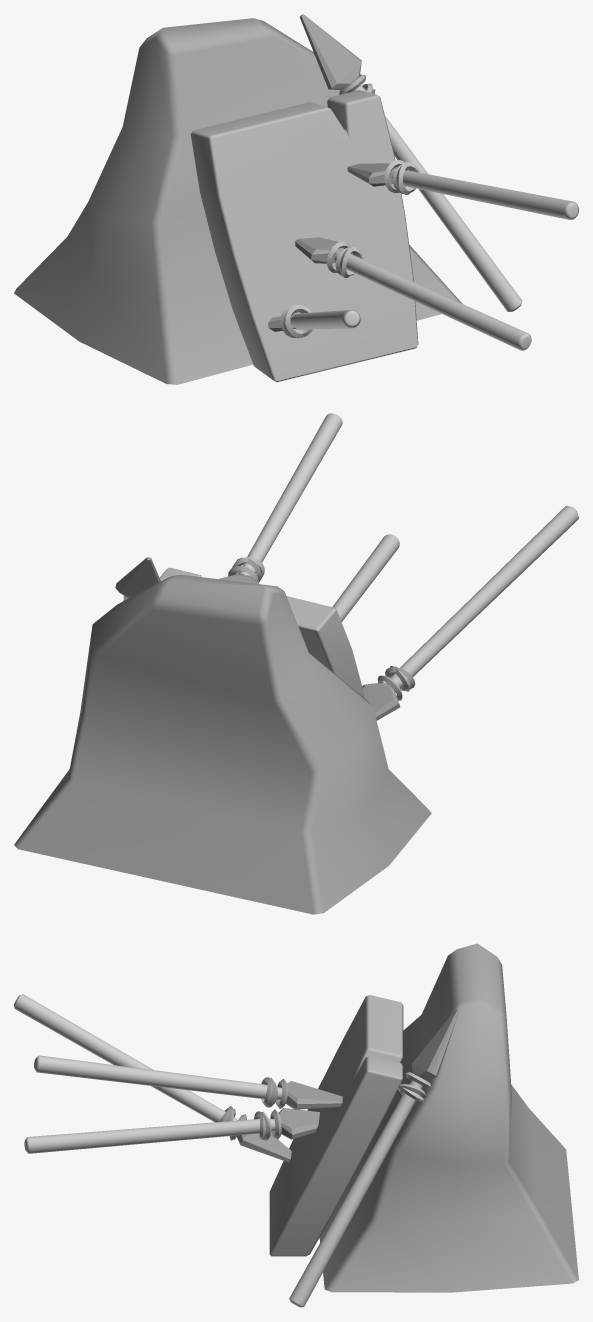
Rendered from WarriorTrainer_lvl2.fbx.
3 renders of one model, top to bottom at view 1: azimuth 30°, elevation 25°; view 2: azimuth 150°, elevation 25°; view 3: azimuth 270°, elevation 25°, orthographic. The views are drawn at different scales.
Parts seen in each view (by area): view 1: Lvl2_WarriorTrainer; view 2: Lvl2_WarriorTrainer; view 3: Lvl2_WarriorTrainer.
Boxes of the visible parts, x1,y1,x2,y2 form: Lvl2_WarriorTrainer: (14,14,578,384); Lvl2_WarriorTrainer: (14,413,578,914); Lvl2_WarriorTrainer: (14,943,578,1307).
Size of the model in its own units: 1.47 by 1.05 by 2.15.
